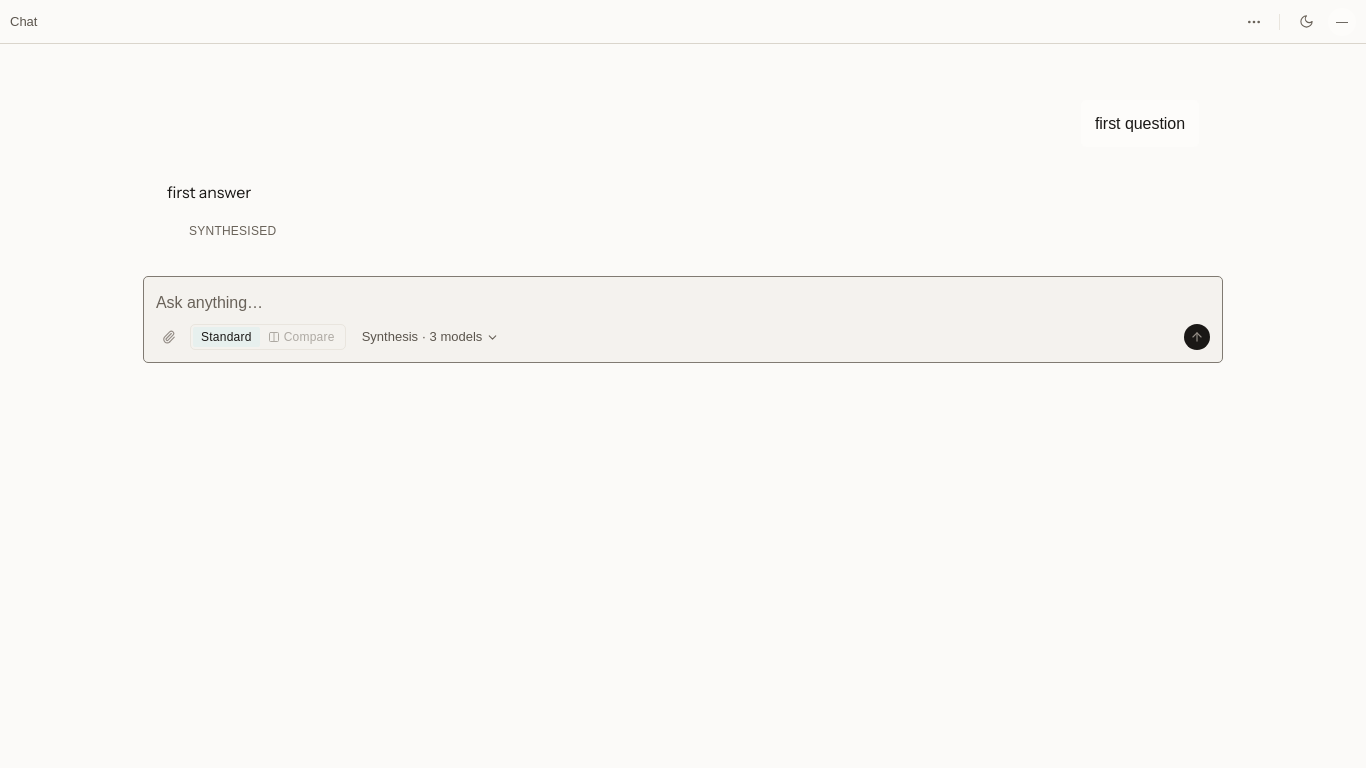
Test: one question → one answer › does not render the turn twice once history has caught up
Type "second question" into the text box labelled "Ask anything…". click: (683, 302)
box: [156,289,1210,316]
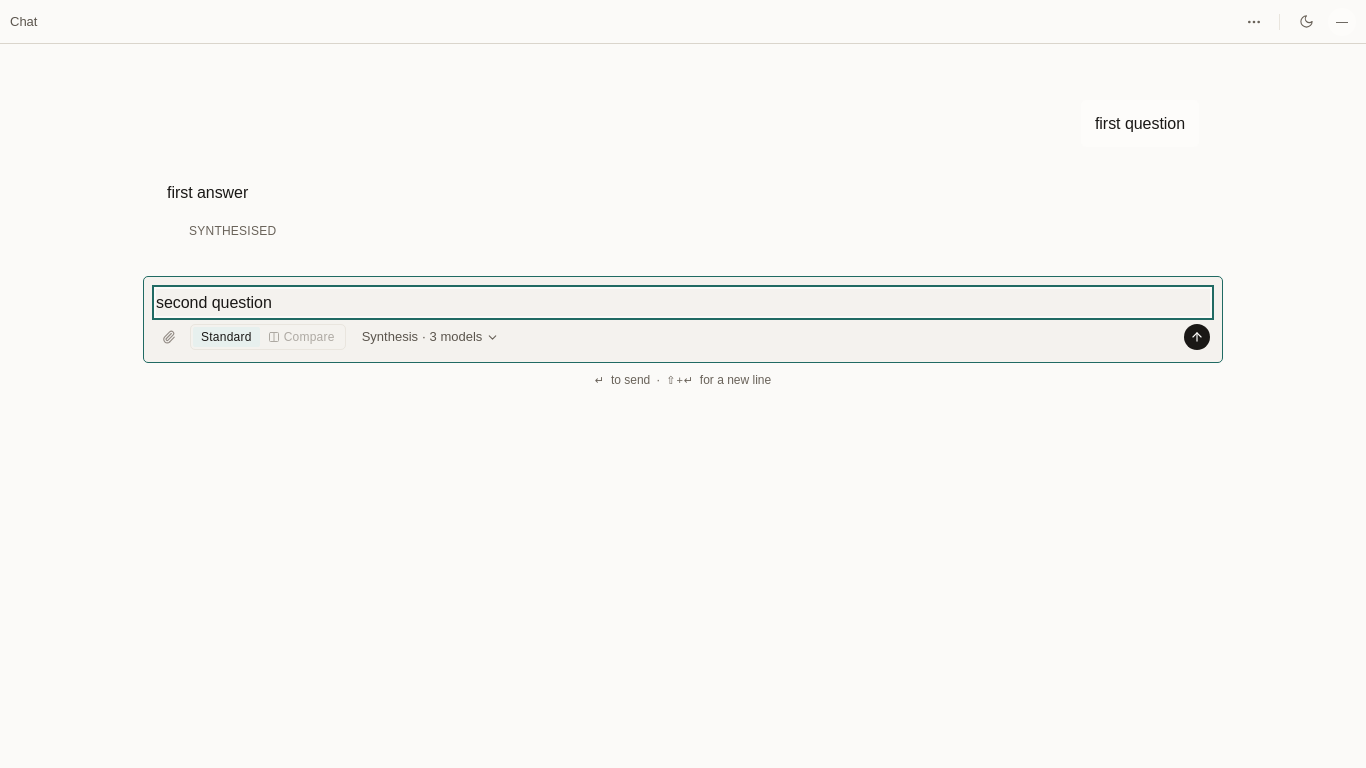
Press Enter
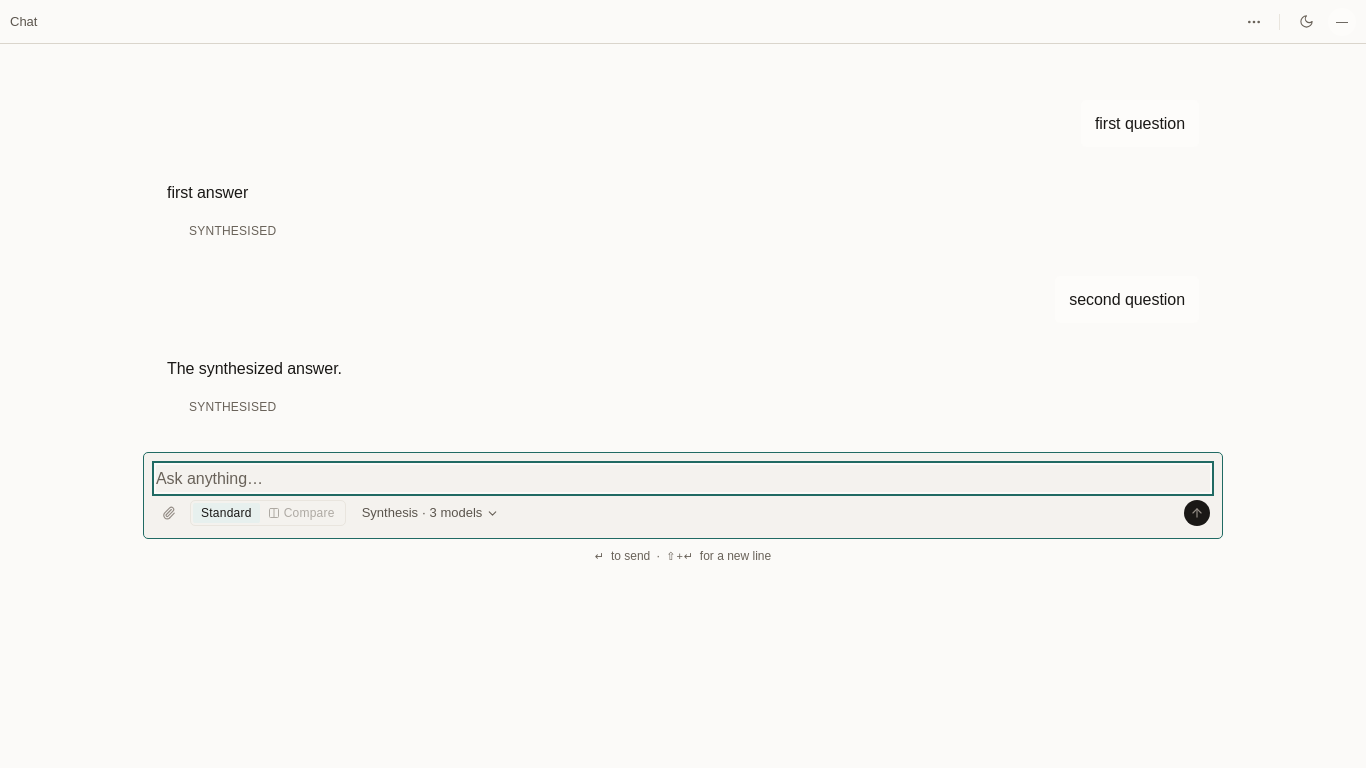
Now the text "second question" is shown once, box [1055,276,1199,323]
Now the text "The synthesized answer." is shown once, box [167,360,342,377]
